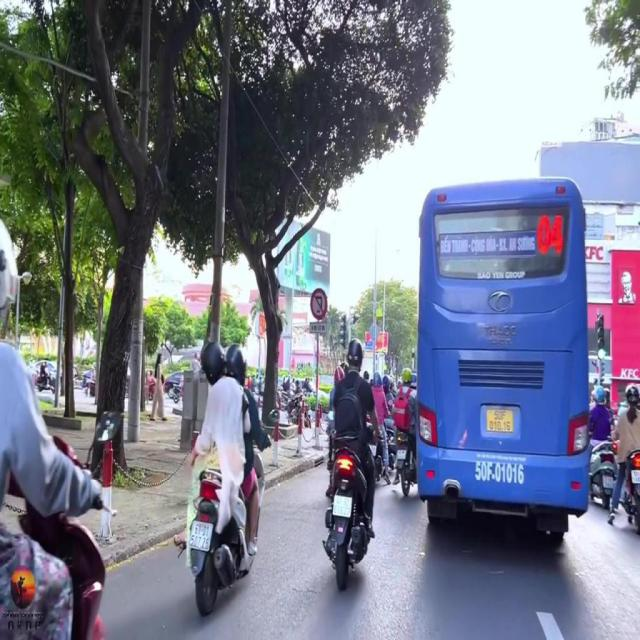cam_o_to_re_trai: (310, 286, 328, 319)
khac: (308, 323, 327, 334)
